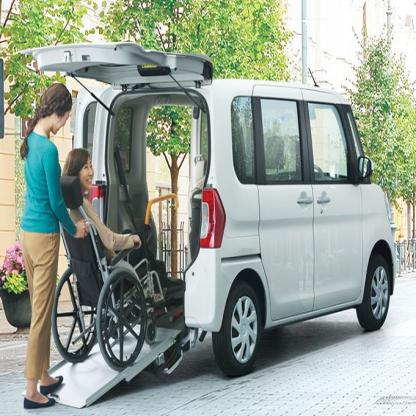wheelchair: (55, 146, 174, 368)
